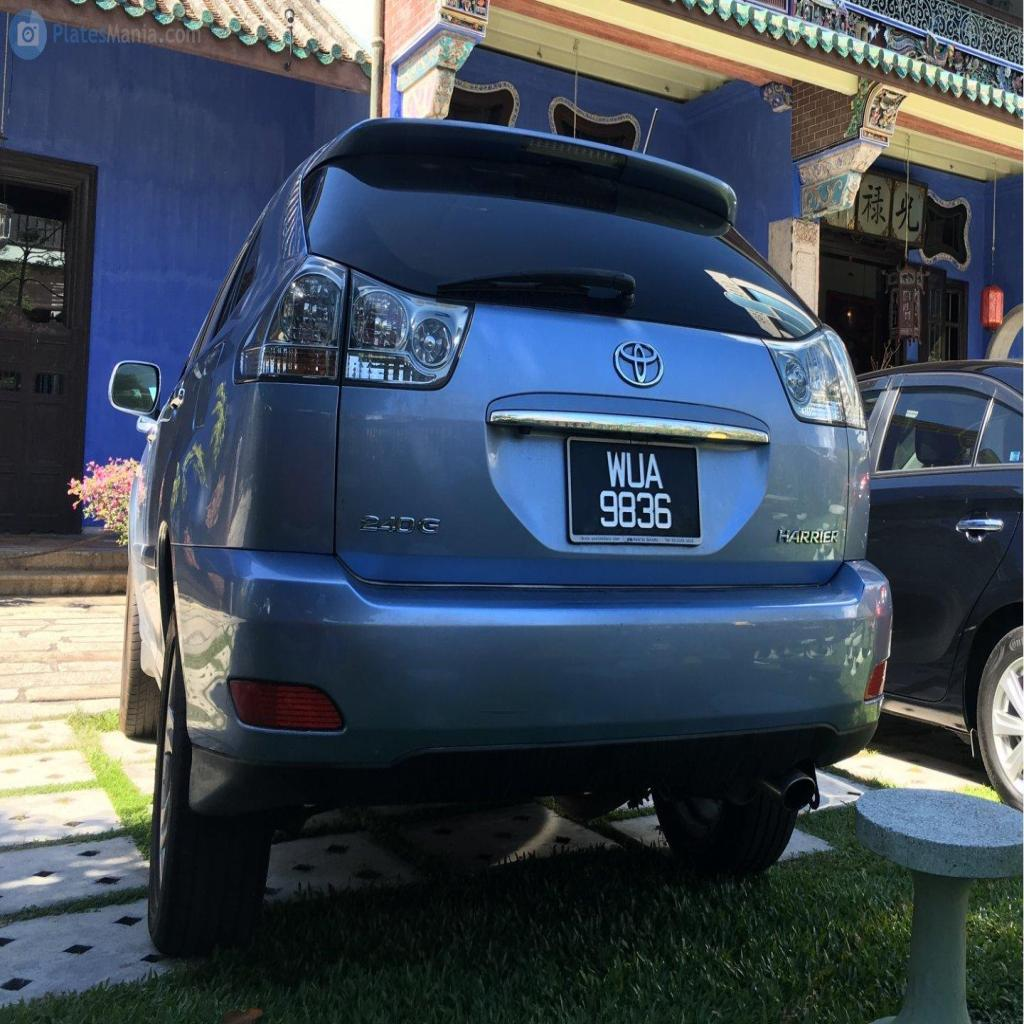car: (110, 121, 889, 950)
car plate: (566, 438, 700, 542)
